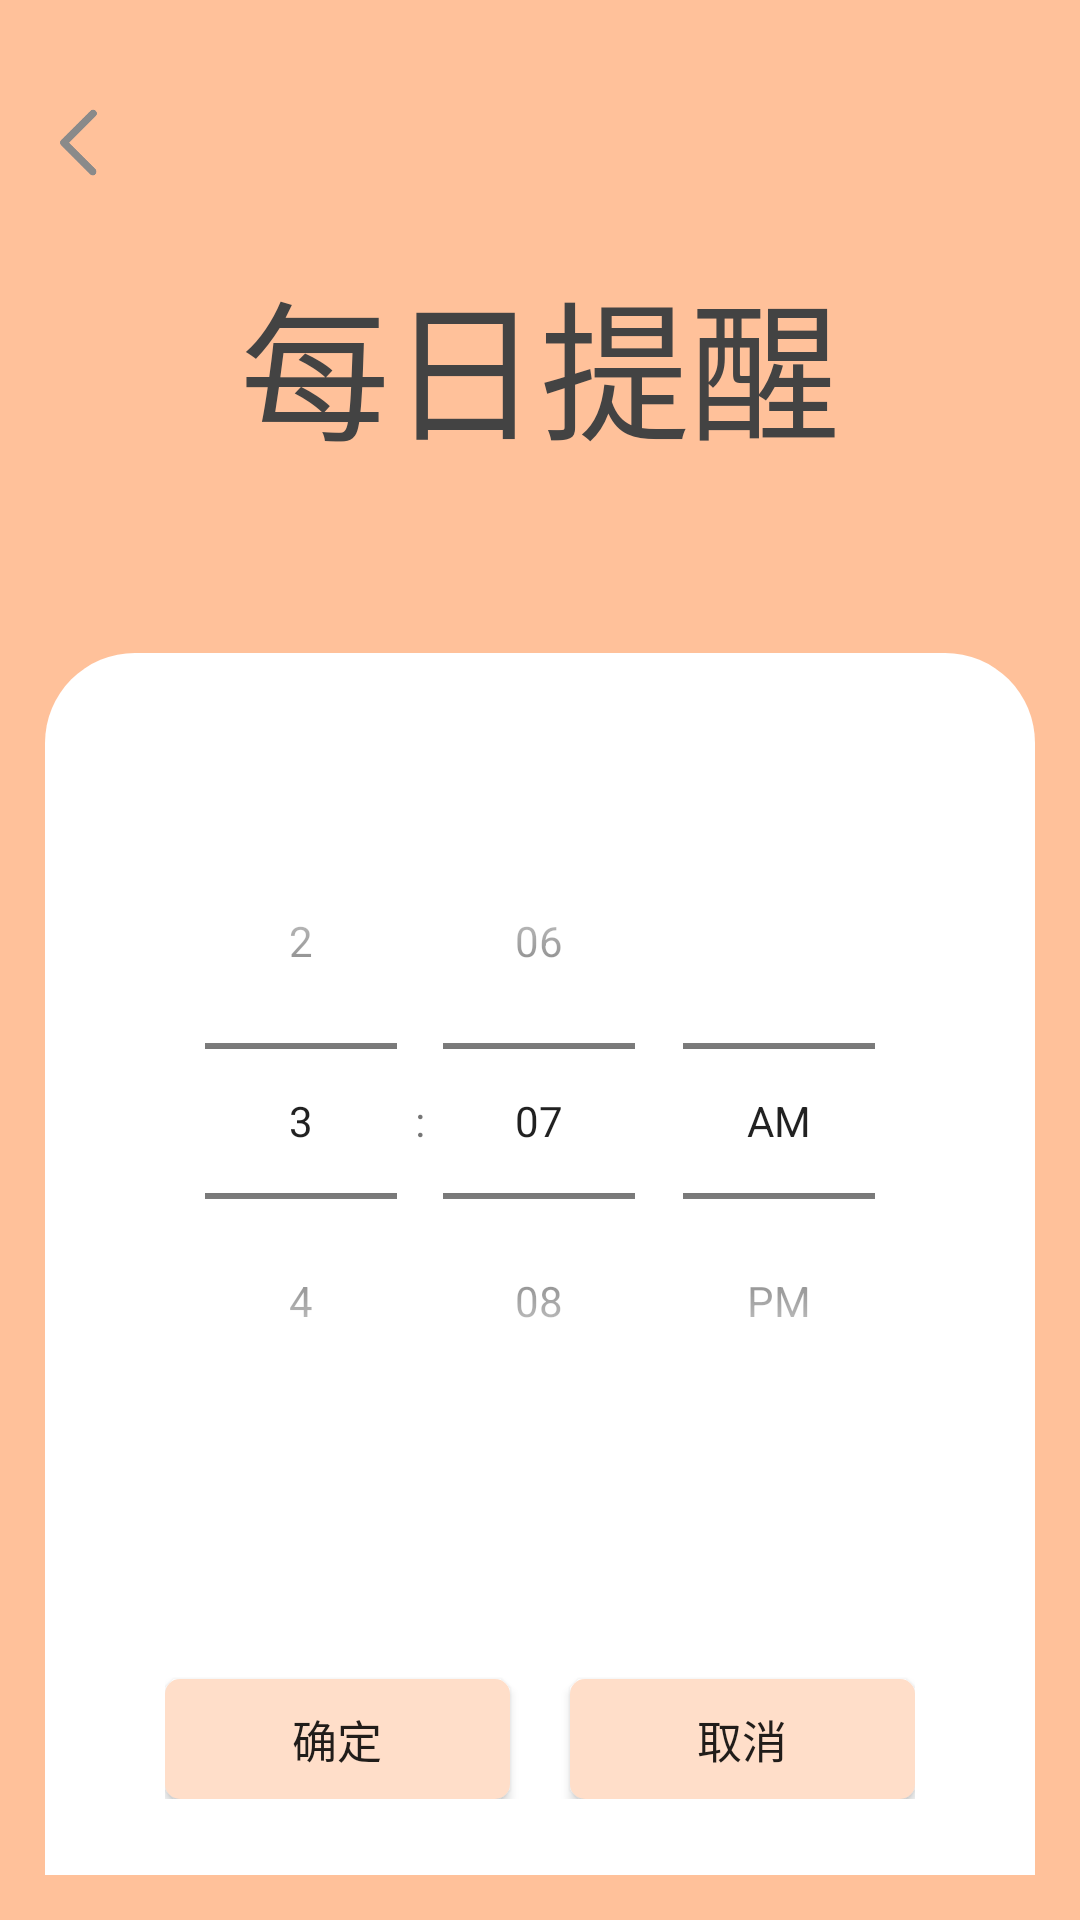

Named icons in this screenshot (1080px x 1920px) and their bounding boxes, (x1, y1, x2, y2):
fanhui: (60, 110, 97, 176)
